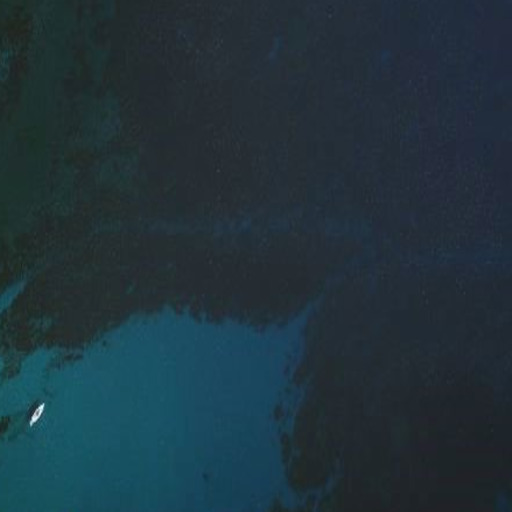ship: (25, 401, 47, 428)
